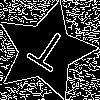T: (20, 25, 72, 81)
